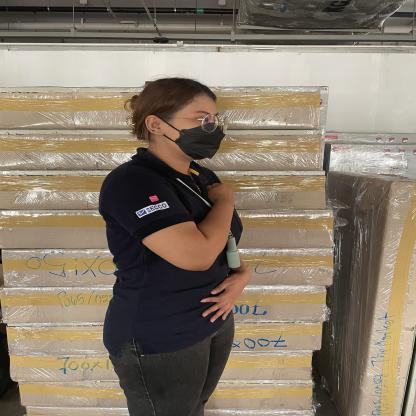Sadness: (149, 151, 258, 278)
